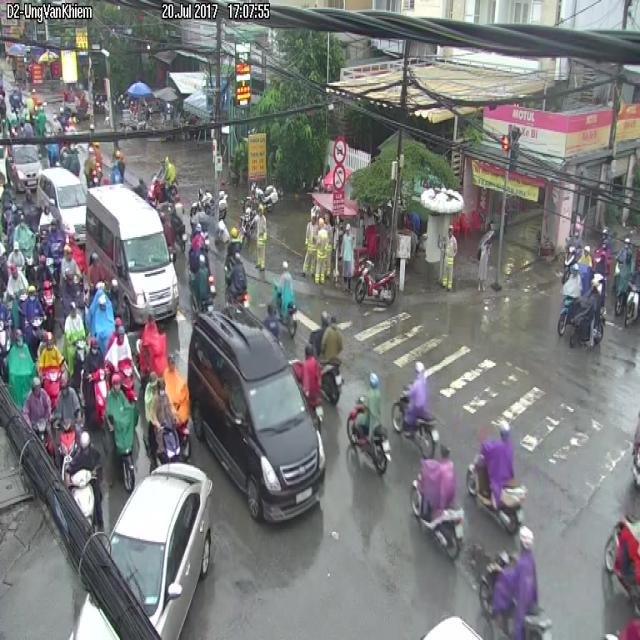car: (412, 446, 463, 559), (346, 373, 391, 474)
traffic-light: (188, 308, 325, 521), (110, 465, 212, 639), (86, 185, 178, 321)
